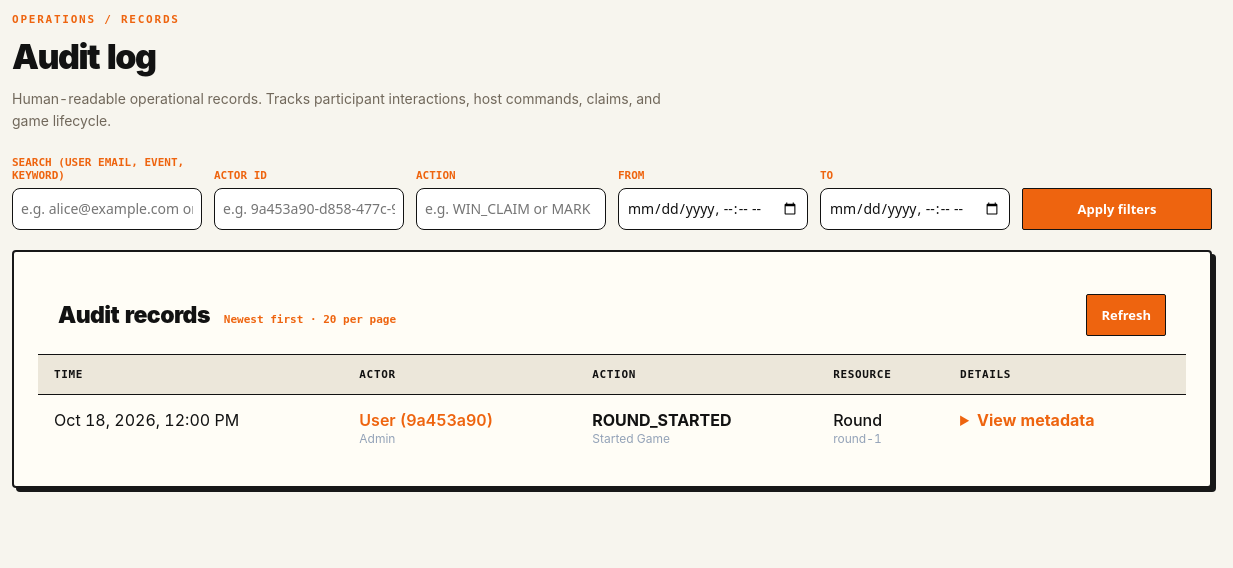
Scenario: Admin audit log › validates an Actor ID and date range before requesting filtered records
The width and height of the screenshot is (1233, 568).
Expected: the text "ROUND_STARTED" is shown, [592, 410, 732, 430]
Type "not-a-uuid" into the field labelled "Actor ID" at [309, 209], box [214, 188, 404, 230]
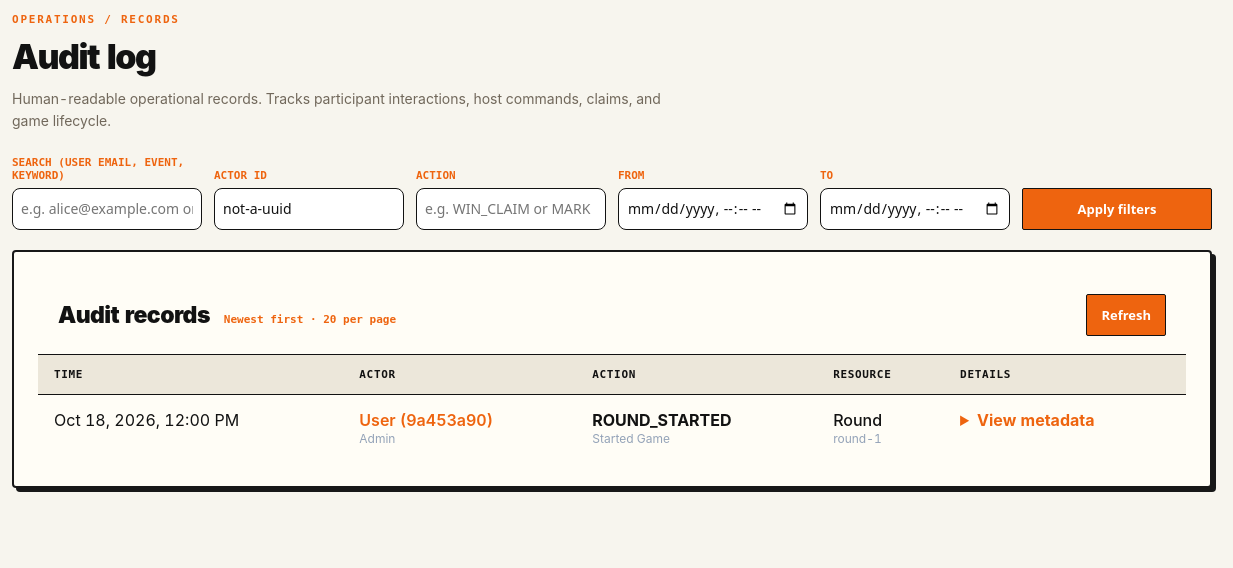
Click the button "Apply filters" at [1117, 209], box [1022, 188, 1212, 230]
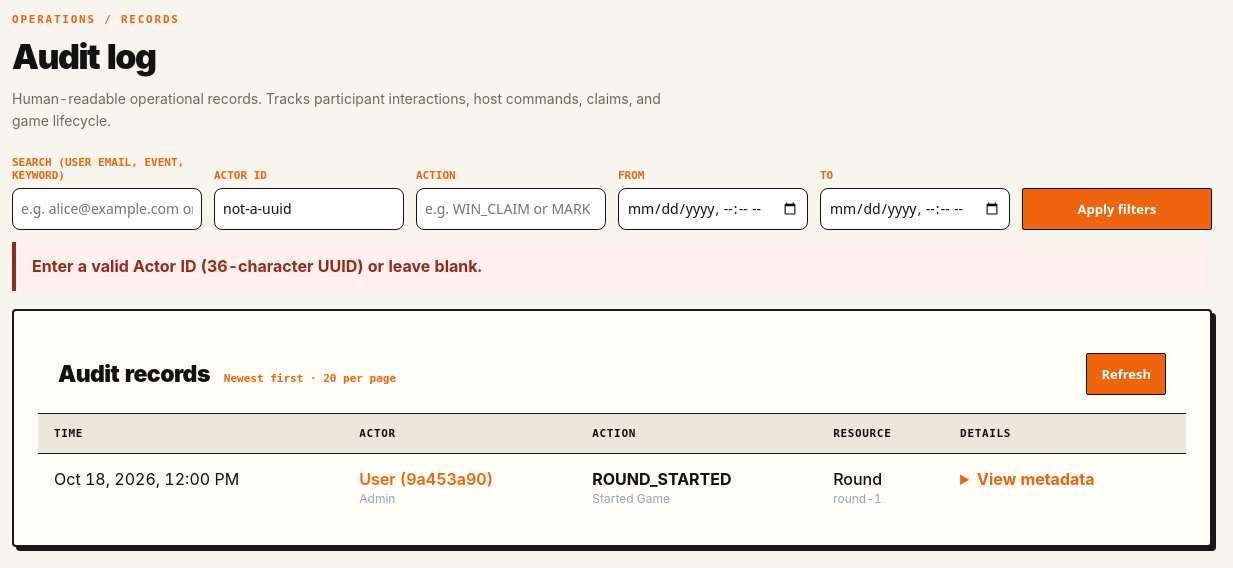
Now the message shows "Enter a valid Actor ID", box [32, 256, 482, 276]
Clear the field labelled "Actor ID" at [309, 209], box [214, 188, 404, 230]
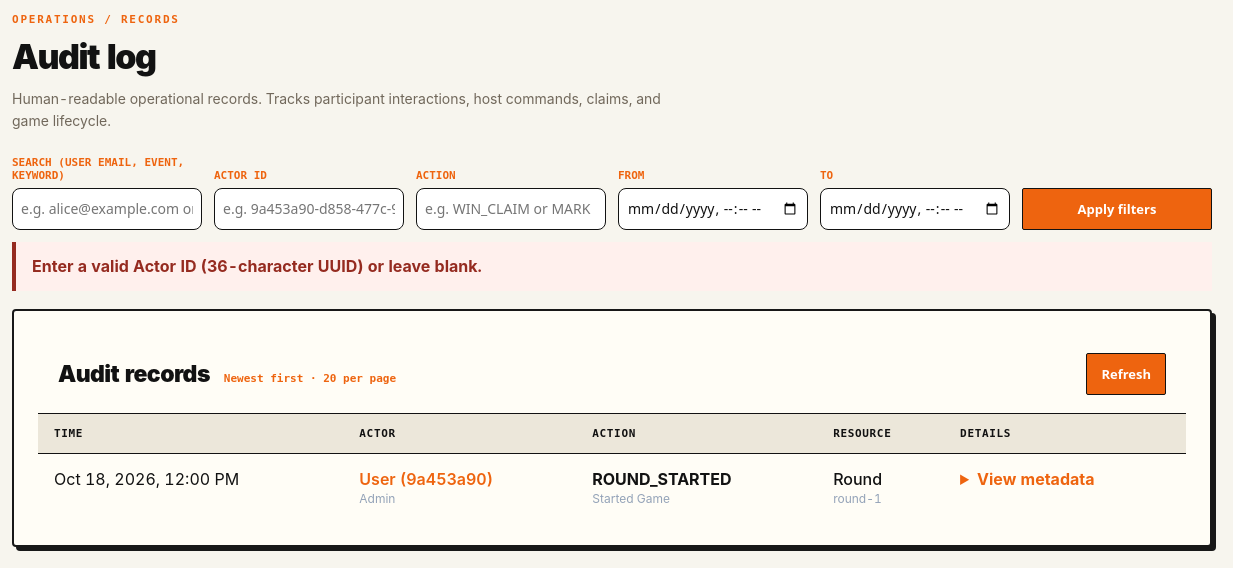
Type "2026-10-18T16:00" into the field labelled "From" at [713, 209], box [618, 188, 808, 230]
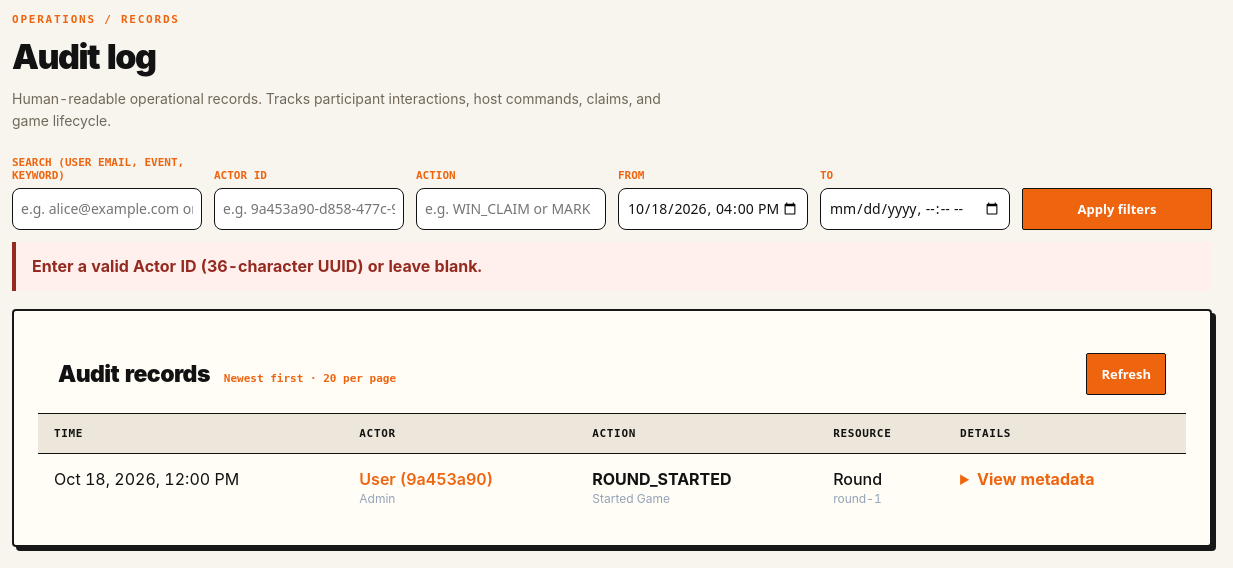
Type "2026-10-18T10:00" into the field labelled "To" at [915, 209], box [820, 188, 1010, 230]
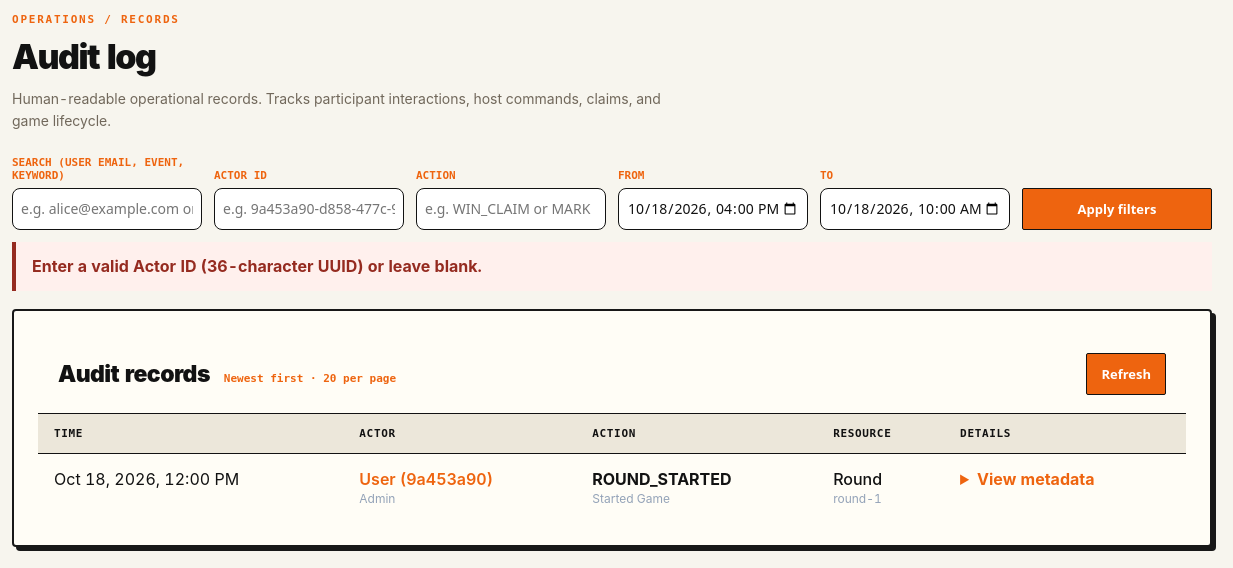
Click the button "Apply filters" at [1117, 209], box [1022, 188, 1212, 230]
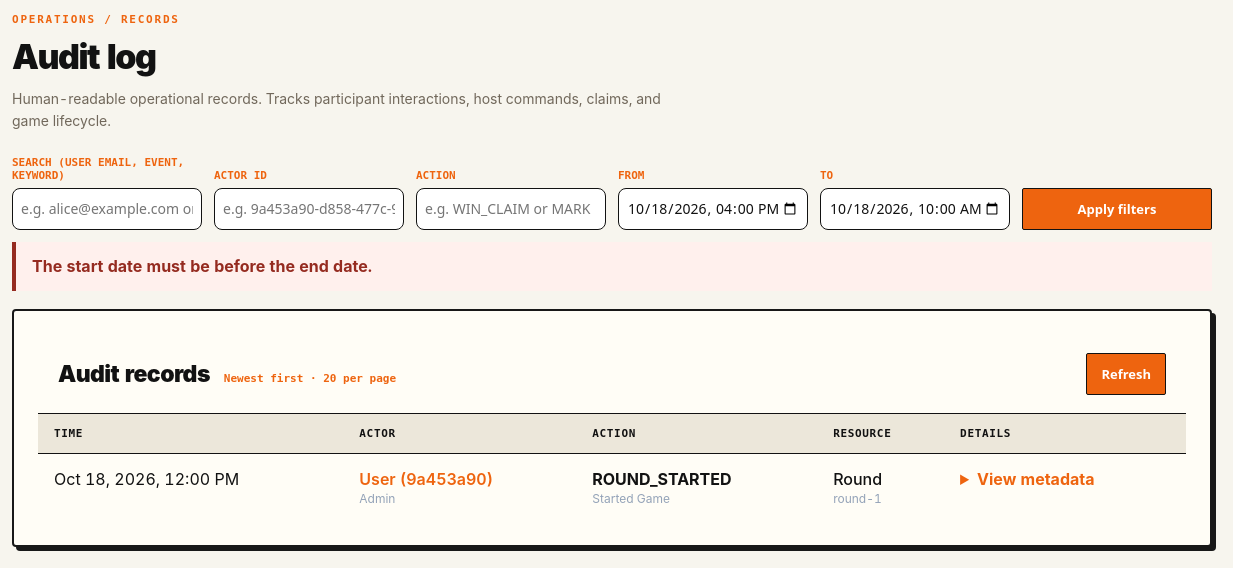
Now the message shows "start date must be before", box [32, 256, 372, 276]
